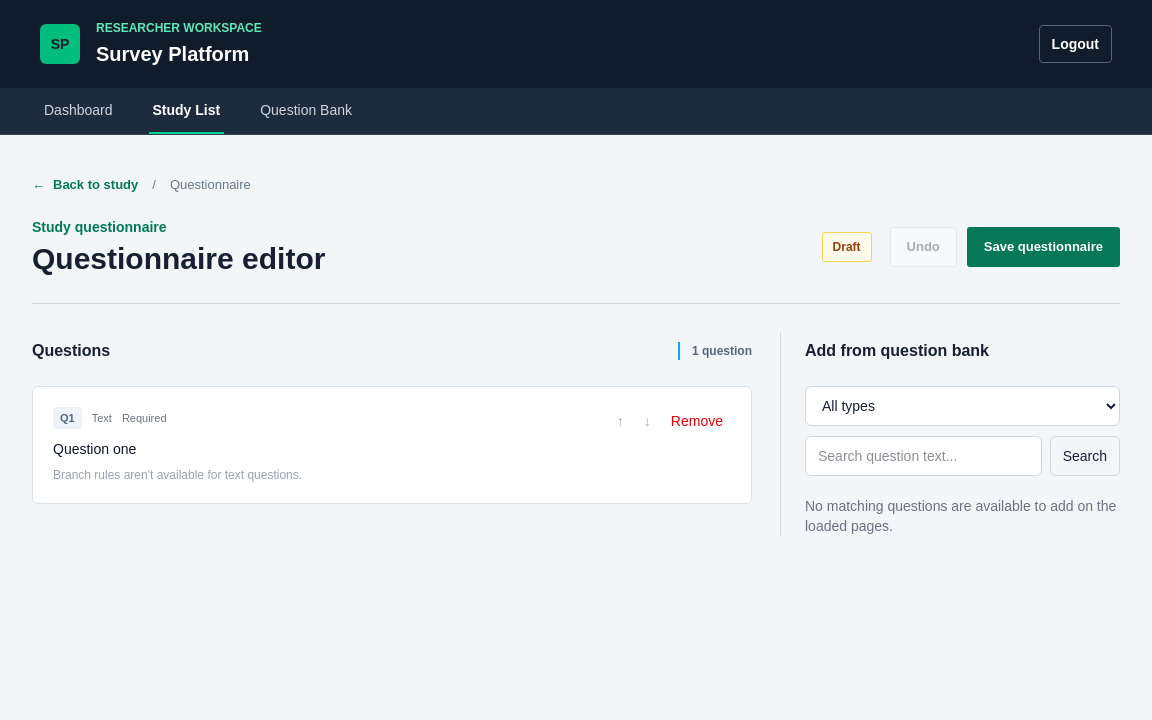
Test: M4 questionnaire editor browser behavior › renders the QUESTIONNAIRE_LOCKED save state
Expected: the text "Question one" is shown, left=53, top=441, right=136, bottom=457
Click the button "Save questionnaire".
click(1043, 246)  # box left=967, top=226, right=1120, bottom=266
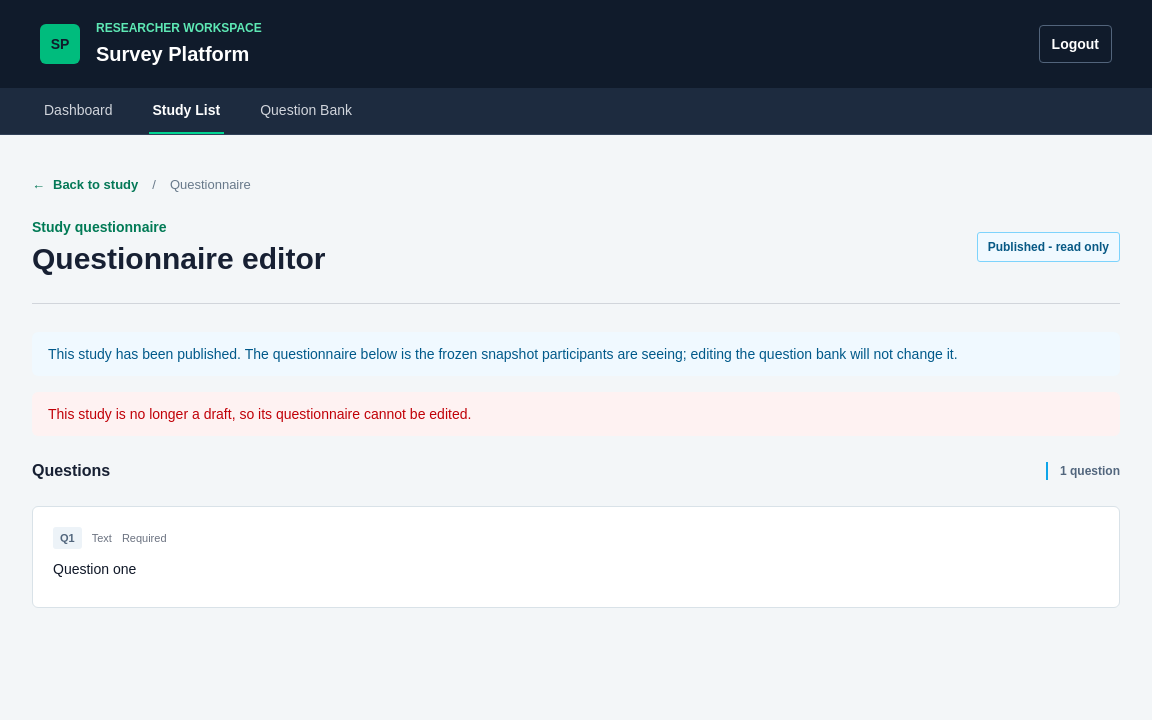
Expected: the message reads "This study is no longer a draft, so its questionnaire cannot be edited.", left=48, top=406, right=471, bottom=422
Expected: the text "Published - read only" is shown, left=977, top=232, right=1120, bottom=262
